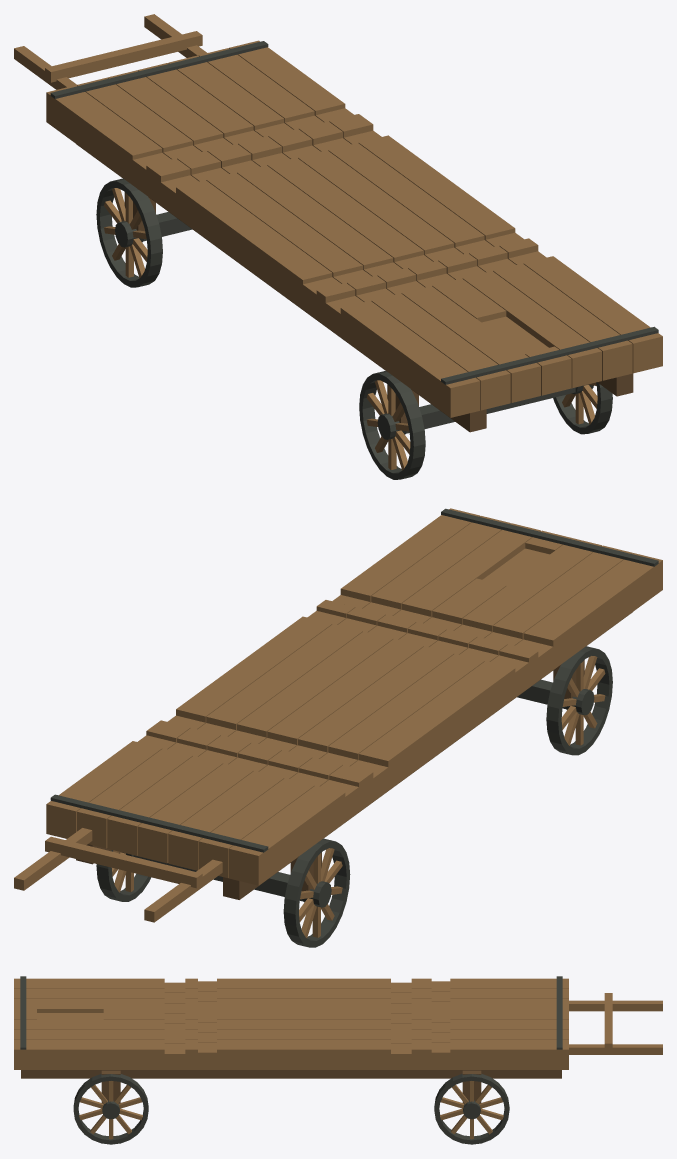
File: carrier-cart.glb
The picture shows the model from 3 angles, top to bottom: view 1: azimuth 30°, elevation 25°; view 2: azimuth 150°, elevation 25°; view 3: azimuth 270°, elevation 25°; orthographic projection. The views are drawn at different scales.
Visible parts, largest first — view 1: carrier-cart-body-timber, joint-cart-body-iron.004, joint-cart-wheel-iron.016, joint-cart-wheel-iron.017, joint-cart-wheel-timber.016, joint-cart-wheel-timber.017, joint-cart-body-timber-dark.004, joint-cart-wheel-iron.019, joint-cart-wheel-timber.019; view 2: carrier-cart-body-timber, joint-cart-body-iron.004, joint-cart-wheel-iron.016, joint-cart-wheel-iron.017, joint-cart-wheel-timber.016, joint-cart-wheel-timber.017, joint-cart-body-timber-dark.004, joint-cart-wheel-iron.018; view 3: carrier-cart-body-timber, joint-cart-body-timber-dark.004, joint-cart-wheel-iron.018, joint-cart-wheel-iron.019, joint-cart-body-iron.004, joint-cart-wheel-timber.019, joint-cart-wheel-timber.018.
Part boxes in pixels (left/top/right/bottom): carrier-cart-body-timber: left=14, top=14, right=662, bottom=417; joint-cart-body-iron.004: left=50, top=41, right=658, bottom=437; joint-cart-wheel-iron.016: left=96, top=178, right=162, bottom=287; joint-cart-wheel-iron.017: left=359, top=371, right=425, bottom=479; joint-cart-wheel-timber.016: left=104, top=188, right=147, bottom=278; joint-cart-wheel-timber.017: left=366, top=380, right=410, bottom=470; joint-cart-body-timber-dark.004: left=76, top=144, right=633, bottom=432; joint-cart-wheel-iron.019: left=553, top=382, right=612, bottom=434; joint-cart-wheel-timber.019: left=562, top=382, right=597, bottom=424; carrier-cart-body-timber: left=14, top=508, right=662, bottom=922; joint-cart-body-iron.004: left=50, top=508, right=658, bottom=905; joint-cart-wheel-iron.016: left=283, top=838, right=350, bottom=947; joint-cart-wheel-iron.017: left=546, top=646, right=612, bottom=755; joint-cart-wheel-timber.016: left=299, top=848, right=342, bottom=937; joint-cart-wheel-timber.017: left=561, top=656, right=605, bottom=745; joint-cart-body-timber-dark.004: left=76, top=612, right=632, bottom=899; joint-cart-wheel-iron.018: left=96, top=850, right=151, bottom=901; carrier-cart-body-timber: left=14, top=978, right=662, bottom=1069; joint-cart-body-timber-dark.004: left=21, top=1070, right=561, bottom=1103; joint-cart-wheel-iron.018: left=434, top=1073, right=509, bottom=1144; joint-cart-wheel-iron.019: left=73, top=1074, right=148, bottom=1144; joint-cart-body-iron.004: left=20, top=976, right=562, bottom=1116; joint-cart-wheel-timber.019: left=79, top=1081, right=142, bottom=1139; joint-cart-wheel-timber.018: left=440, top=1081, right=503, bottom=1139.
Bounding box in the file's own units: 1.8 × 1.17 × 6.91.
